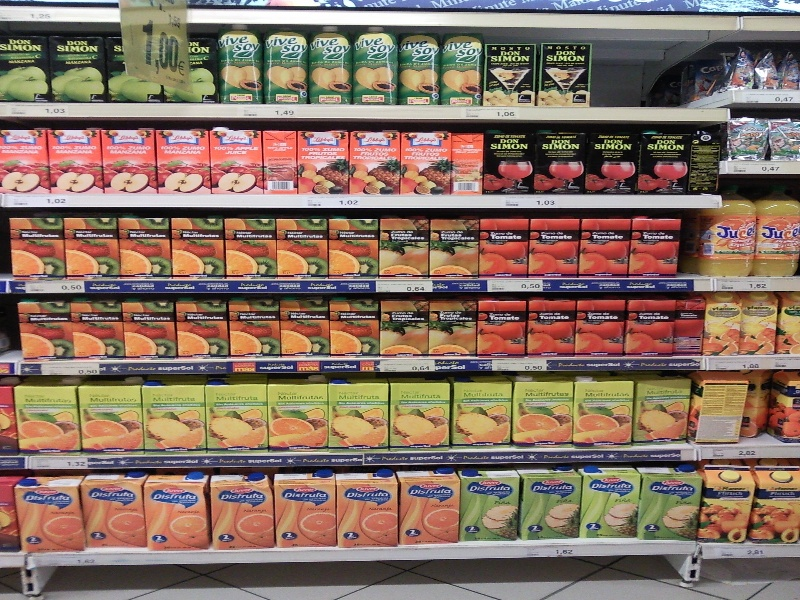juice: (15, 476, 90, 553), (140, 374, 212, 454), (208, 474, 279, 551), (81, 376, 147, 458), (78, 476, 147, 550), (146, 476, 212, 553), (519, 467, 584, 545), (397, 470, 460, 548), (388, 378, 453, 453), (205, 379, 272, 451), (460, 467, 521, 545), (581, 466, 641, 545), (16, 381, 80, 455), (338, 472, 400, 548), (510, 375, 573, 447), (329, 377, 390, 451), (452, 375, 513, 449), (279, 472, 338, 548), (50, 33, 113, 104), (266, 377, 329, 447), (152, 126, 214, 197), (6, 211, 66, 283), (575, 372, 633, 445), (294, 125, 350, 196), (635, 375, 691, 445), (121, 296, 181, 361), (63, 216, 121, 282), (48, 128, 106, 193), (169, 214, 226, 279), (222, 213, 277, 279), (211, 129, 265, 196), (16, 297, 75, 358), (69, 296, 125, 360), (399, 133, 455, 197), (121, 211, 172, 280), (231, 298, 285, 362), (103, 129, 155, 195), (173, 298, 231, 356), (378, 218, 433, 279), (325, 216, 380, 276), (348, 129, 398, 195), (479, 217, 533, 278), (1, 36, 50, 102), (329, 297, 382, 358), (431, 215, 481, 279), (580, 215, 630, 279), (527, 294, 575, 358), (379, 299, 431, 358), (528, 217, 581, 273), (626, 298, 677, 356), (274, 216, 324, 274), (630, 220, 679, 279), (430, 297, 476, 358), (576, 301, 625, 358), (281, 298, 328, 356), (480, 292, 522, 356)
